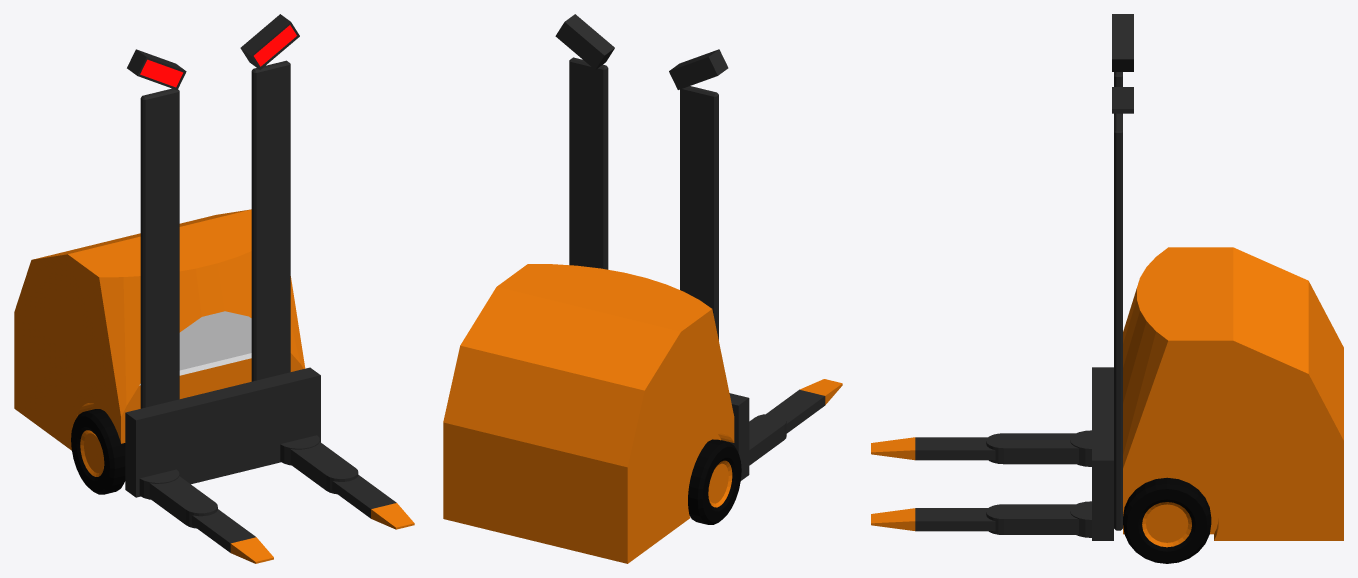
The model's file is forklift_enemy.fbx.
The picture shows the model from 3 angles, left to right: view 1: azimuth 30°, elevation 25°; view 2: azimuth 150°, elevation 25°; view 3: azimuth 270°, elevation 25°; orthographic projection. The views are drawn at different scales.
Parts seen in each view (by area): view 1: body, lift, fork, wheel_R, tine_lower_L, tine_lower_R, tine_upper_R, tine_upper_L, eye_L, eye_R; view 2: body, lift, wheel_R, tine_lower_R, eye_L, tine_upper_R, eye_R, fork; view 3: body, wheel_L, fork, lift, tine_upper_R, tine_upper_L, tine_lower_R, tine_lower_L, eye_R, eye_L.
Part boxes in pixels (<box>): body: <box>14,209,305,450</box>; lift: <box>140,60,290,408</box>; fork: <box>125,367,320,499</box>; wheel_R: <box>71,409,125,494</box>; tine_lower_L: <box>332,475,414,529</box>; tine_lower_R: <box>192,509,273,563</box>; tine_upper_R: <box>149,476,217,528</box>; tine_upper_L: <box>290,442,358,494</box>; eye_L: <box>240,14,299,69</box>; eye_R: <box>127,49,186,90</box>; body: <box>443,264,734,563</box>; lift: <box>569,57,718,340</box>; wheel_R: <box>688,439,741,524</box>; tine_lower_R: <box>766,379,842,433</box>; eye_L: <box>555,14,614,69</box>; tine_upper_R: <box>749,414,786,465</box>; eye_R: <box>669,49,728,89</box>; fork: <box>721,393,749,480</box>; body: <box>1123,247,1343,540</box>; wheel_L: <box>1123,477,1211,563</box>; fork: <box>1070,367,1113,540</box>; lift: <box>1114,72,1122,530</box>; tine_upper_R: <box>986,433,1078,464</box>; tine_upper_L: <box>986,504,1078,534</box>; tine_lower_R: <box>871,437,995,460</box>; tine_lower_L: <box>871,508,995,531</box>; eye_R: <box>1112,14,1133,71</box>; eye_L: <box>1112,87,1133,113</box>.
Size of the model in its own units: 1.1 by 2.32 by 2.14.
